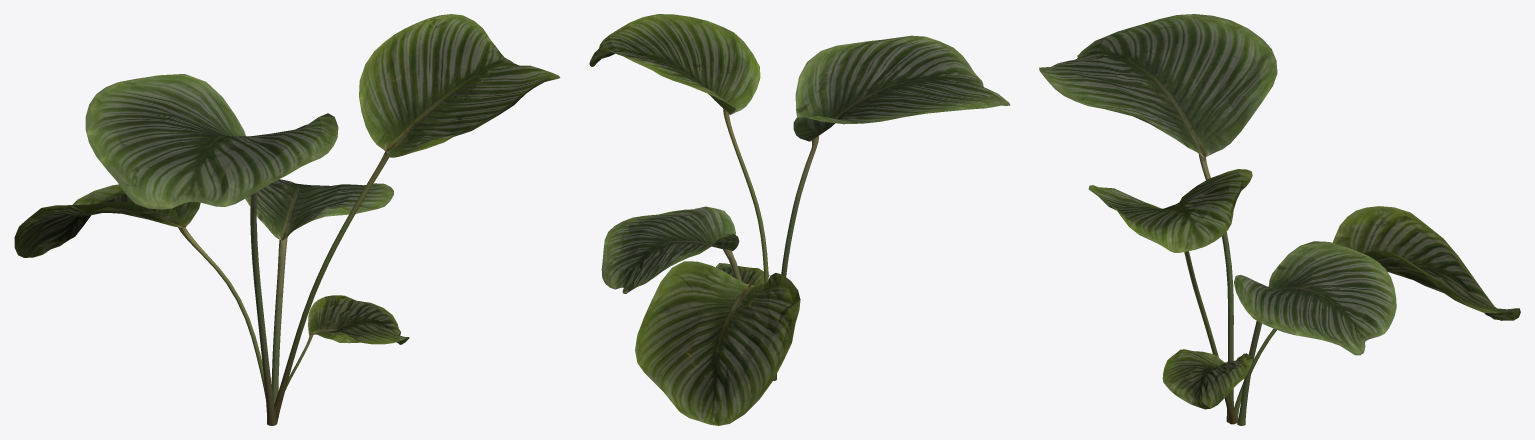
File: calathea-b.glb
3 views of the same model, side by side, from view 1: azimuth 30°, elevation 25°; view 2: azimuth 150°, elevation 25°; view 3: azimuth 270°, elevation 25° (orthographic). The views are drawn at different scales.
Bounding box in the file's own units: 0.3752 × 0.284 × 0.3838.
1 material, 1 textured.
